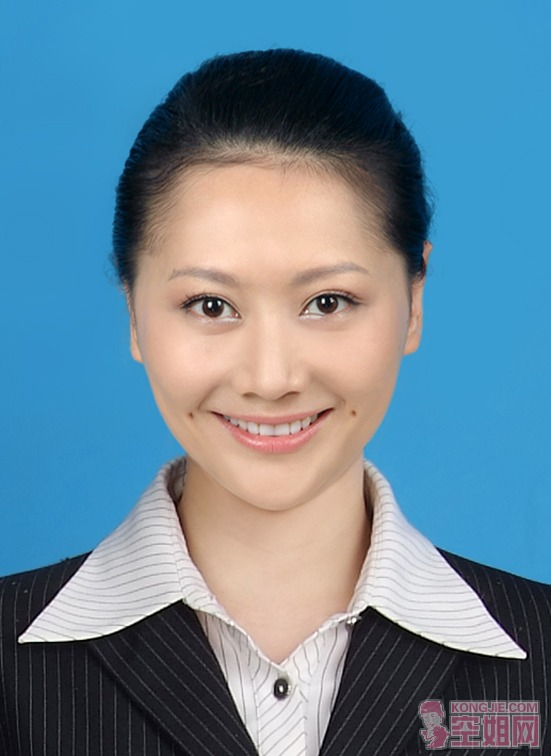unmask: (140, 188, 412, 504)
